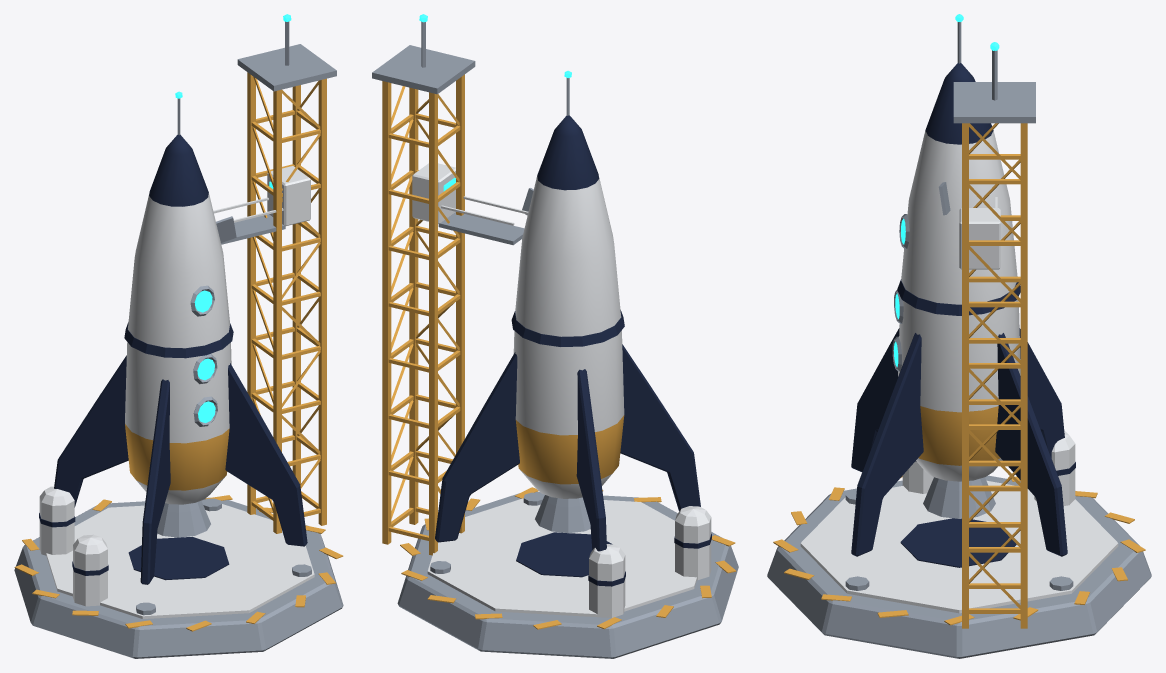
File: rocket_pad.glb
3 views of the same model, side by side, from view 1: azimuth 30°, elevation 25°; view 2: azimuth 150°, elevation 25°; view 3: azimuth 270°, elevation 25° (orthographic). The views are drawn at different scales.
Parts seen in each view (by area): view 1: rocket_pad; view 2: rocket_pad; view 3: rocket_pad.
Boxes of the visible parts, x1,y1,x2,y2 form: rocket_pad: (14, 14, 343, 658); rocket_pad: (372, 14, 738, 658); rocket_pad: (767, 14, 1151, 658).
Size of the model in its own units: 6.71 by 11.34 by 6.53.
